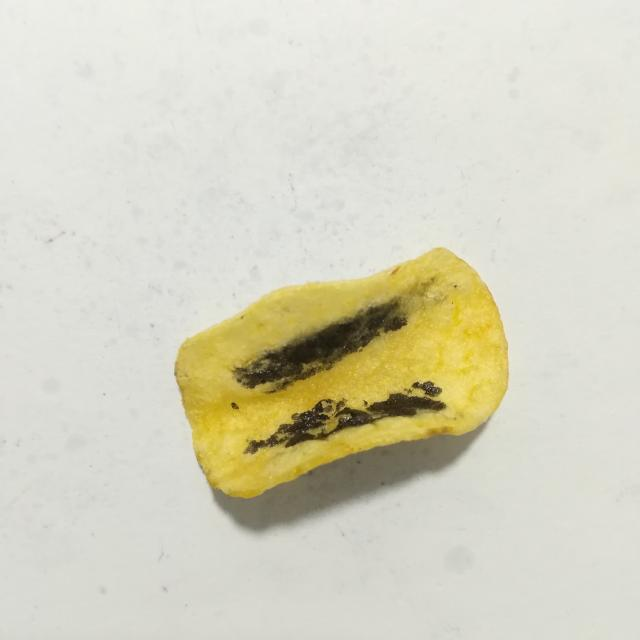chip: (175, 248, 508, 497)
damaged: (234, 299, 407, 392), (245, 381, 446, 454), (231, 402, 239, 409)
semi-damaged: (357, 276, 446, 320)
